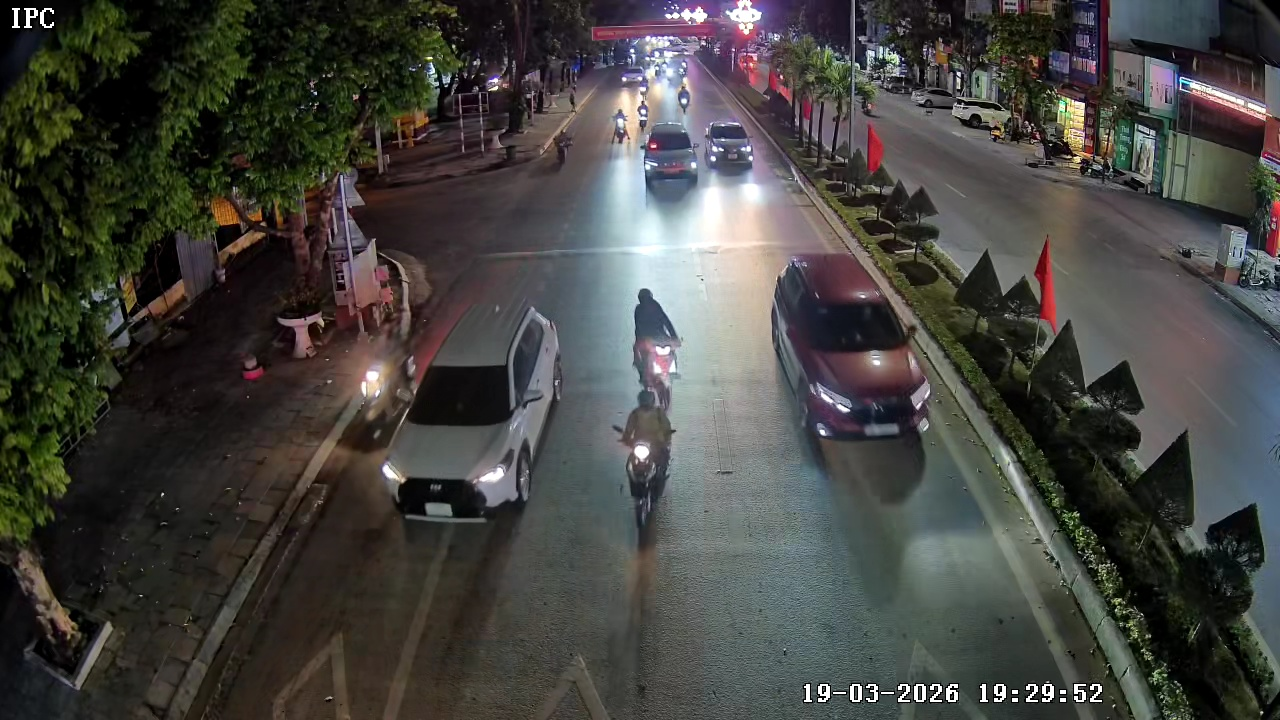car: (383, 301, 564, 515), (770, 252, 930, 446), (640, 123, 700, 186), (704, 118, 754, 167)
motorbike: (613, 387, 679, 529), (628, 286, 684, 414), (611, 108, 629, 147), (677, 87, 696, 114), (639, 78, 652, 97)
